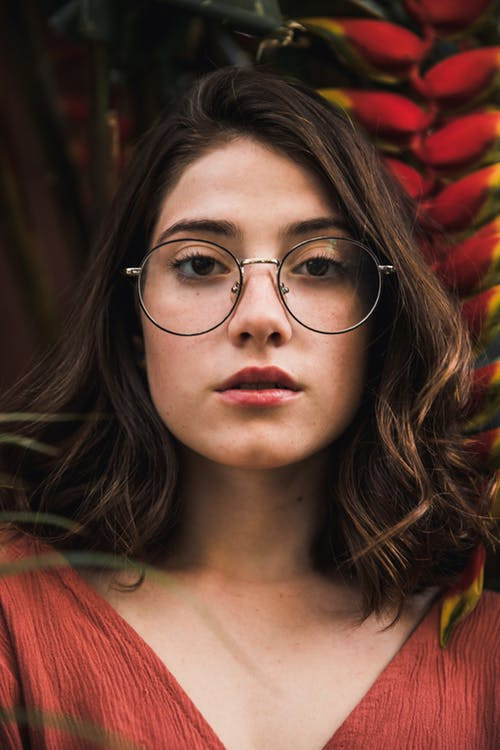bare: (133, 293, 372, 459)
